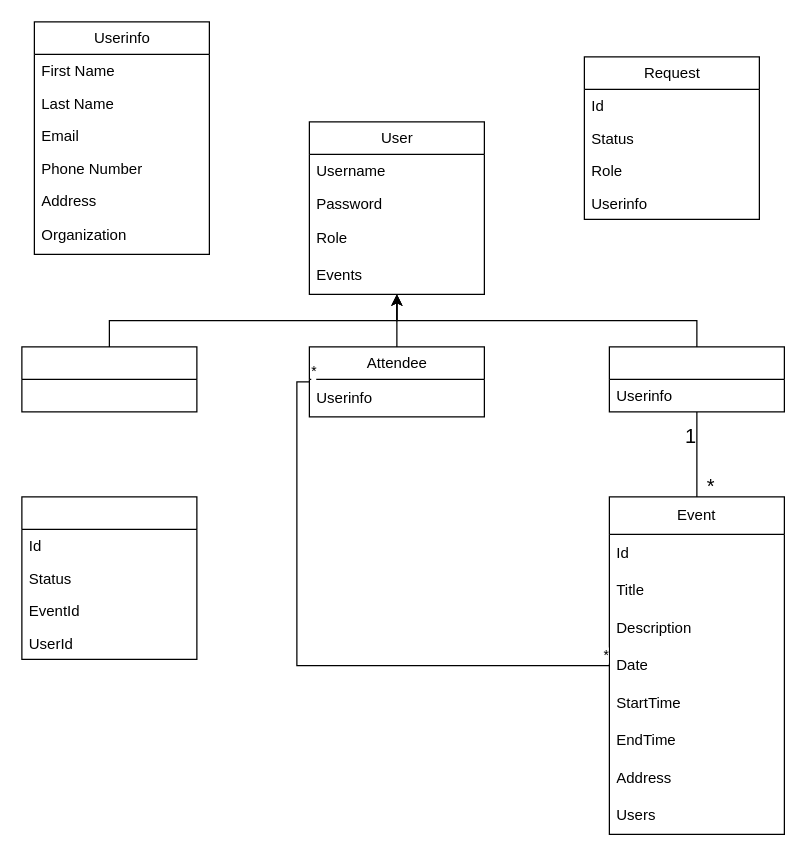
Image size: 806x856. Some labels were removed from this diagram. The box of each missing label's shape, as (x1, y1, x2, y2) in pixels:
Adminstrator: (21, 346, 197, 412)
EventRequest: (21, 496, 197, 659)
Organizer: (608, 346, 784, 412)
